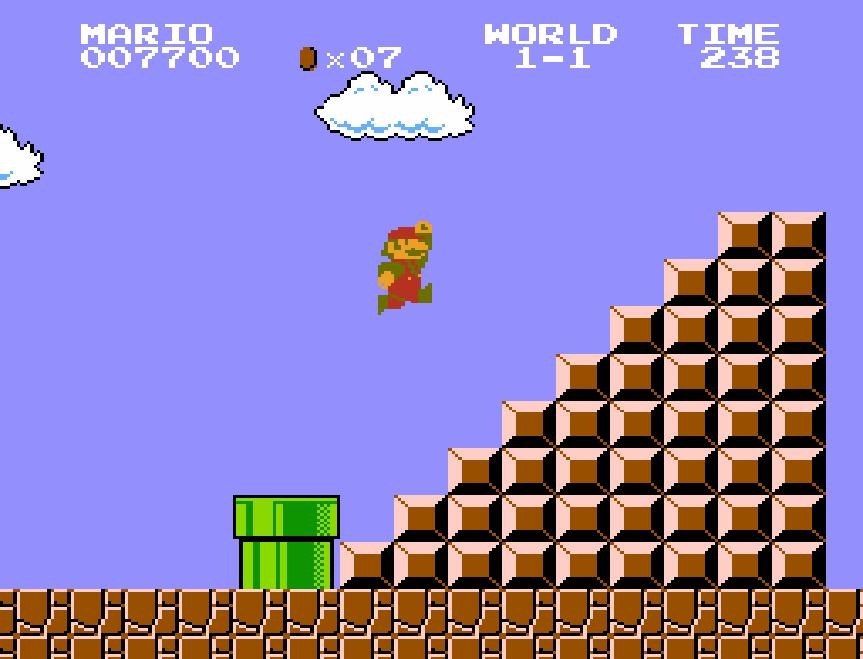big_mario: (376, 218, 434, 316)
